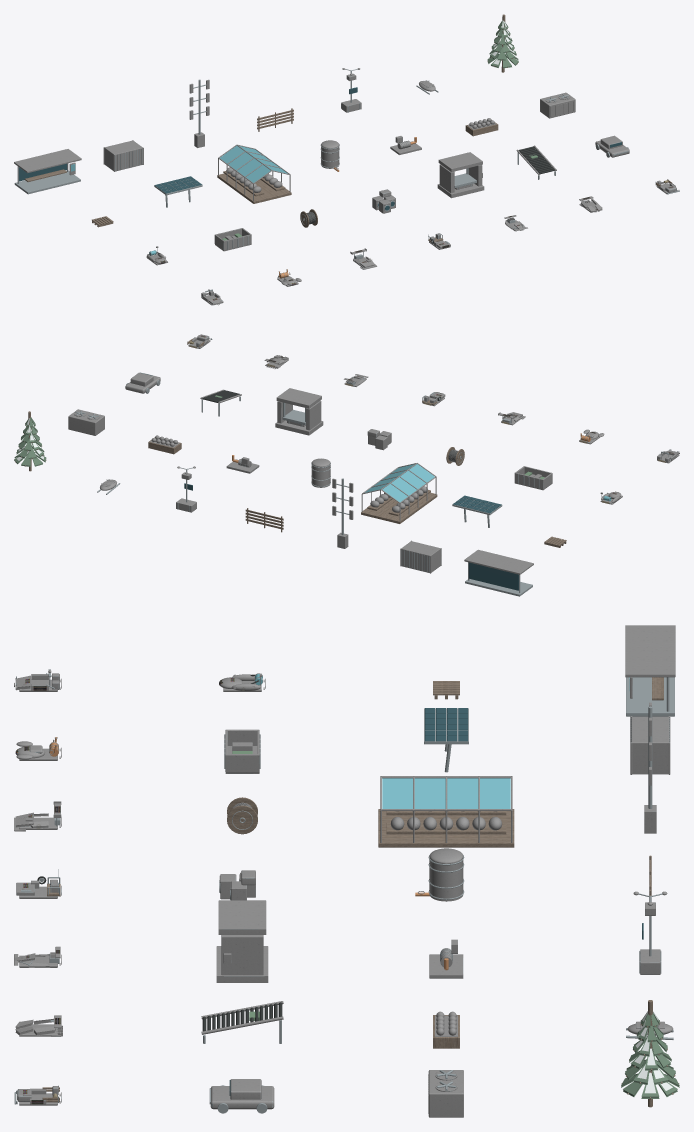
File: racers-and-world-v2.glb
3 views of the same model, one above another, from view 1: azimuth 30°, elevation 25°; view 2: azimuth 150°, elevation 25°; view 3: azimuth 270°, elevation 25° (orthographic). The views are drawn at different scales.
Visible parts, largest first — view 1: freight-crate / Panel, greenhouse / Translucent blue roof, transit-shelter / Panel.001, greenhouse / Panel, transit-shelter / Panel, vent-bank / Panel, compactor / Panel.003; view 2: freight-crate / Panel, greenhouse / Translucent blue roof, transit-shelter / Panel.001, transit-shelter / Panel.002, greenhouse / Panel, vent-bank / Panel, compactor / Panel.003, transit-shelter / Panel, water-tank / Vertical storage tank; view 3: greenhouse / Translucent blue roof.001, greenhouse / Panel, transit-shelter / Panel.001, freight-crate / Panel, compactor / Panel.003, compactor / Panel.002, transit-shelter / Panel, vent-bank / Panel, water-tank / Vertical storage tank, scrap-car / Stripped donor chassis, greenhouse / Panel.002, compactor / Panel.
Boxes of the visible parts, bbox=[...] form: freight-crate / Panel: bbox=[104, 140, 142, 171]; greenhouse / Translucent blue roof: bbox=[220, 145, 270, 182]; transit-shelter / Panel.001: bbox=[14, 149, 81, 173]; greenhouse / Panel: bbox=[217, 173, 291, 203]; transit-shelter / Panel: bbox=[14, 170, 80, 194]; vent-bank / Panel: bbox=[540, 92, 575, 118]; compactor / Panel.003: bbox=[438, 152, 482, 172]; freight-crate / Panel: bbox=[401, 541, 440, 572]; greenhouse / Translucent blue roof: bbox=[382, 464, 434, 502]; transit-shelter / Panel.001: bbox=[464, 549, 533, 574]; transit-shelter / Panel.002: bbox=[469, 562, 518, 590]; greenhouse / Panel: bbox=[361, 492, 437, 523]; vent-bank / Panel: bbox=[68, 409, 104, 435]; compactor / Panel.003: bbox=[276, 388, 321, 408]; transit-shelter / Panel: bbox=[465, 579, 532, 596]; water-tank / Vertical storage tank: bbox=[311, 464, 330, 487]; greenhouse / Translucent blue roof.001: bbox=[382, 778, 510, 808]; greenhouse / Panel: bbox=[378, 809, 514, 847]; transit-shelter / Panel.001: bbox=[625, 625, 675, 677]; freight-crate / Panel: bbox=[631, 716, 669, 774]; compactor / Panel.003: bbox=[218, 900, 266, 934]; compactor / Panel.002: bbox=[221, 935, 263, 975]; transit-shelter / Panel: bbox=[626, 677, 674, 716]; vent-bank / Panel: bbox=[428, 1070, 463, 1117]; water-tank / Vertical storage tank: bbox=[429, 856, 463, 901]; scrap-car / Stripped donor chassis: bbox=[210, 1086, 274, 1109]; greenhouse / Panel.002: bbox=[386, 823, 506, 834]; compactor / Panel: bbox=[216, 946, 268, 982].
Bounding box in the file's own units: 78.47 × 10.01 × 48.98.
Materials: 56 (47 with a texture image).
